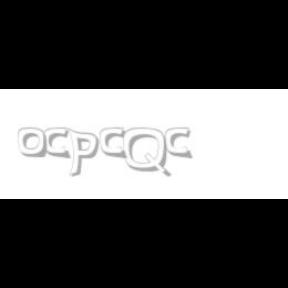P: (67, 128, 99, 178)
Q: (123, 128, 169, 178)
c: (164, 128, 194, 160), (44, 128, 72, 160), (100, 128, 128, 160)
o: (17, 128, 46, 158)
